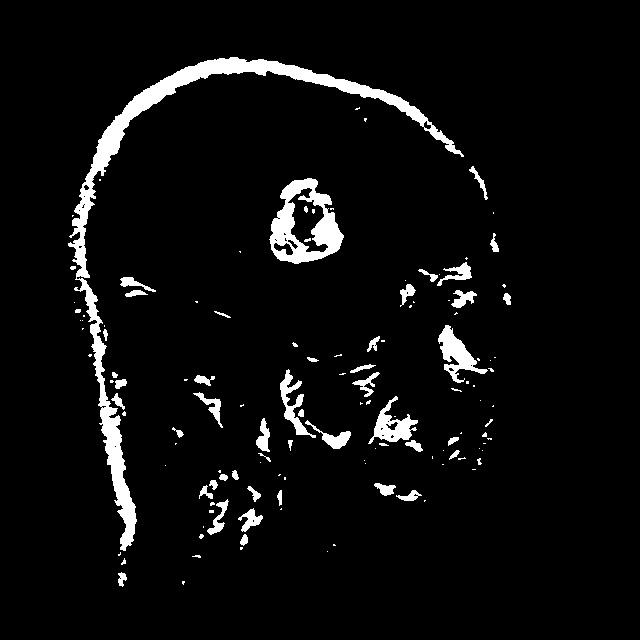Brain-Tumor: (263, 166, 358, 274)
